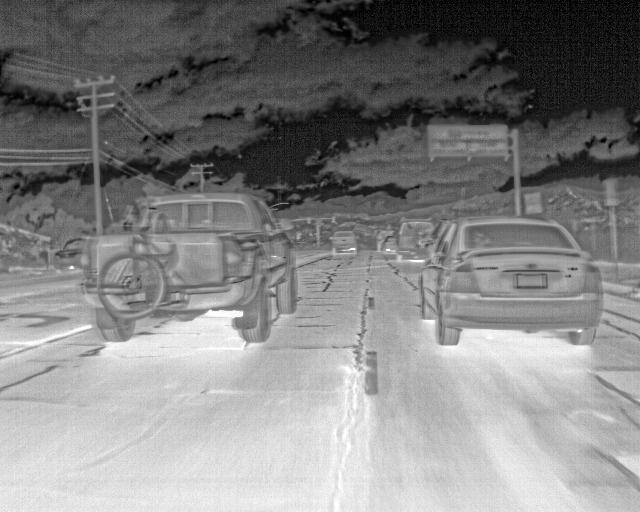bicycle: (96, 208, 173, 320)
car: (89, 186, 299, 343), (420, 216, 604, 347), (398, 217, 436, 262), (51, 235, 85, 271), (328, 229, 356, 250), (382, 233, 402, 252), (374, 229, 391, 248)
